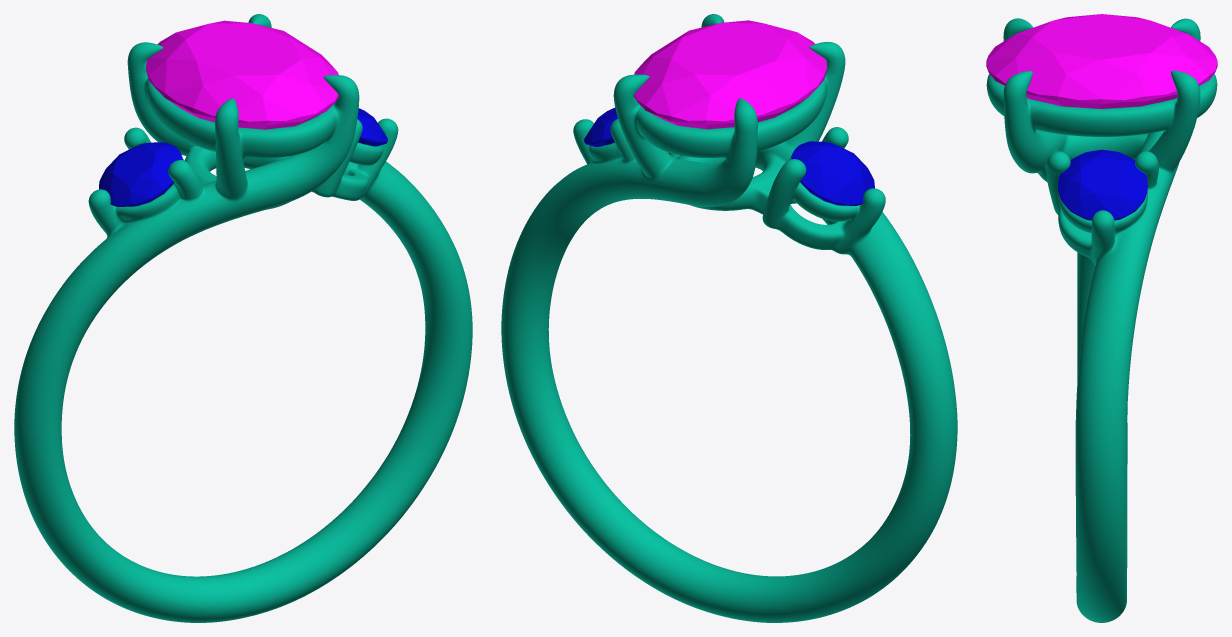
The model's file is BE1D5651_OV_200ct_RENDER.glb.
3 views of the same model, side by side, from view 1: azimuth 30°, elevation 25°; view 2: azimuth 150°, elevation 25°; view 3: azimuth 270°, elevation 25° (orthographic).
Parts seen in each view (by area): view 1: Metal 01, CS_Diamond_Oval, Diamond_Round_side.001, Diamond_Round_side; view 2: Metal 01, CS_Diamond_Oval, Diamond_Round_side.001, Diamond_Round_side; view 3: Metal 01, CS_Diamond_Oval, Diamond_Round_side.
Boxes of the visible parts, x1=… form: Metal 01: x1=14, y1=14, x2=472, y2=622; CS_Diamond_Oval: x1=146, y1=20, x2=338, y2=129; Diamond_Round_side.001: x1=99, y1=142, x2=182, y2=206; Diamond_Round_side: x1=357, y1=108, x2=387, y2=146; Metal 01: x1=501, y1=14, x2=957, y2=622; CS_Diamond_Oval: x1=634, y1=20, x2=826, y2=129; Diamond_Round_side.001: x1=791, y1=141, x2=874, y2=205; Diamond_Round_side: x1=584, y1=107, x2=617, y2=146; Metal 01: x1=986, y1=18, x2=1217, y2=622; CS_Diamond_Oval: x1=986, y1=14, x2=1217, y2=108; Diamond_Round_side: x1=1058, y1=149, x2=1147, y2=220.
Size of the model in its own units: 20.06 by 24.11 by 9.
